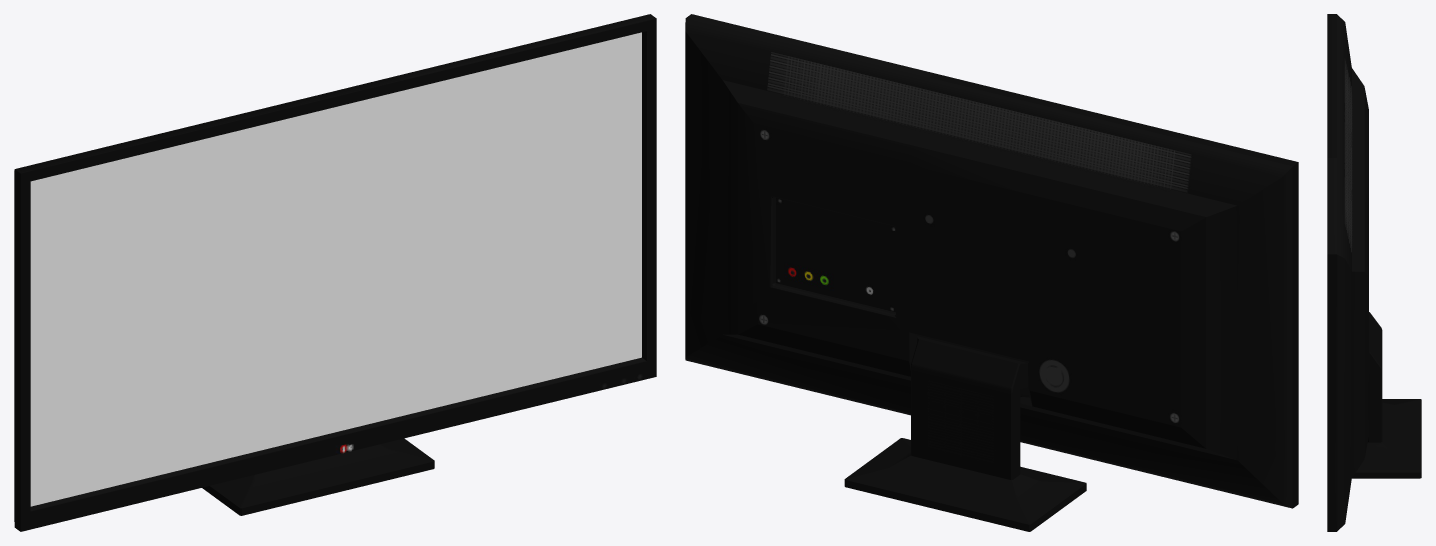
3 renders of one model, left to right at view 1: azimuth 30°, elevation 25°; view 2: azimuth 150°, elevation 25°; view 3: azimuth 270°, elevation 25°, orthographic. The views are drawn at different scales.
Parts seen in each view (by area): view 1: led_tv; view 2: led_tv; view 3: led_tv.
Boxes of the visible parts, x1,y1,x2,y2 form: led_tv: [14, 14, 656, 531]; led_tv: [685, 14, 1298, 531]; led_tv: [1327, 14, 1421, 531].
Bounding box in the file's own units: 2.01 × 1.2 × 0.3334.
2 materials, 1 textured.
